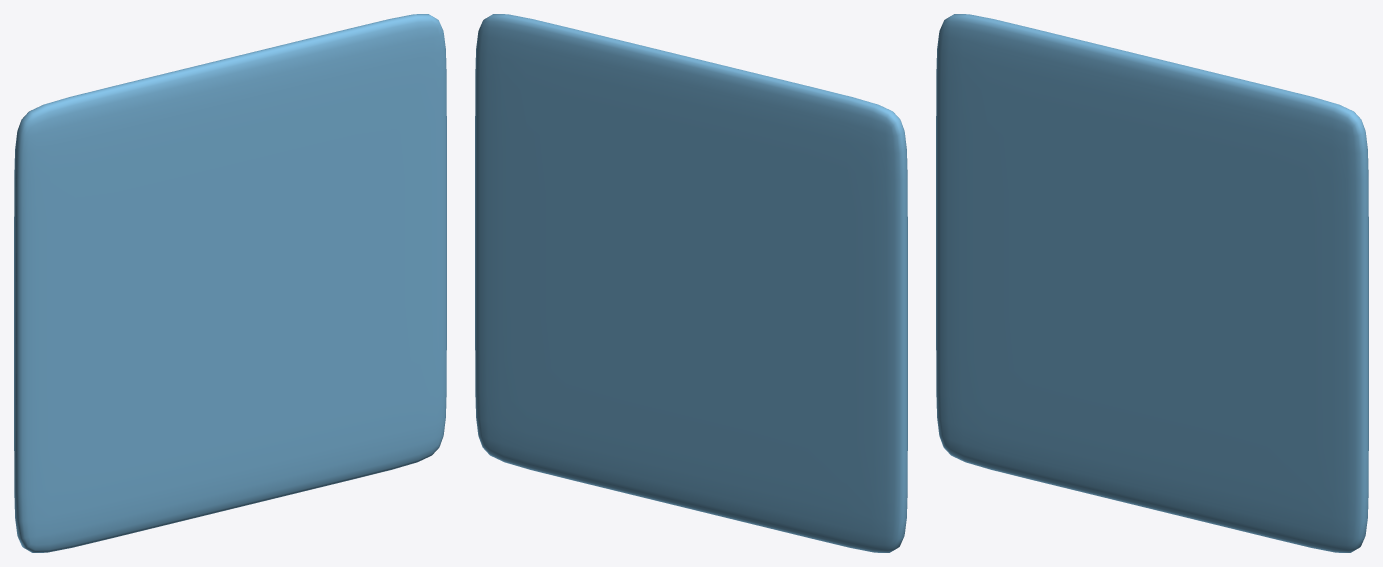
Rendered from rug.glb.
3 views of the same model, side by side, from view 1: azimuth 30°, elevation 25°; view 2: azimuth 150°, elevation 25°; view 3: azimuth 330°, elevation 25° (orthographic).
Parts seen in each view (by area): view 1: rug; view 2: rug; view 3: rug.
Part boxes in pixels (left/top/right/bottom): rug: left=14, top=14, right=446, bottom=552; rug: left=475, top=14, right=907, bottom=552; rug: left=936, top=14, right=1368, bottom=552.
Size of the model in its own units: 1.7 by 1.7 by 0.07.
